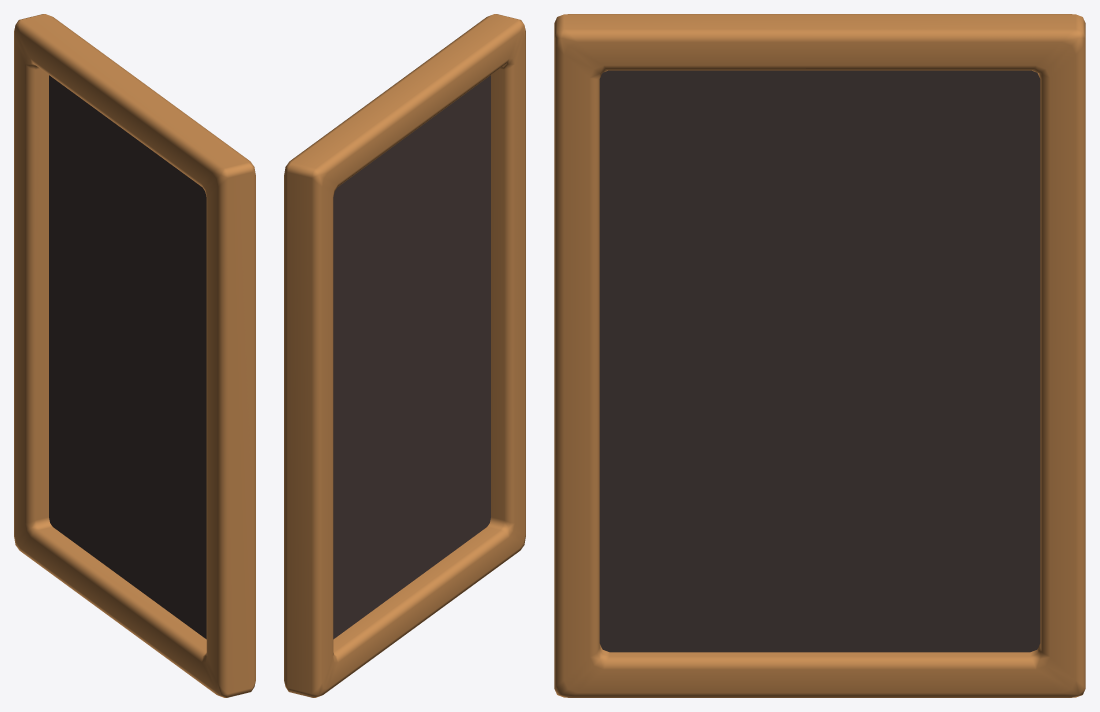
The model's file is SM_menu_board.fbx.
3 renders of one model, left to right at view 1: azimuth 30°, elevation 25°; view 2: azimuth 150°, elevation 25°; view 3: azimuth 270°, elevation 25°, orthographic. The views are drawn at different scales.
Visible parts, largest first — view 1: SM_menu_board; view 2: SM_menu_board; view 3: SM_menu_board.
Part boxes in pixels (x1,y1,x2,y2): SM_menu_board: (14,14,255,697); SM_menu_board: (284,14,525,697); SM_menu_board: (554,14,1085,697).
Bounding box in the file's own units: 11.05 × 149 × 107.
Materials: 1 (1 with a texture image).
